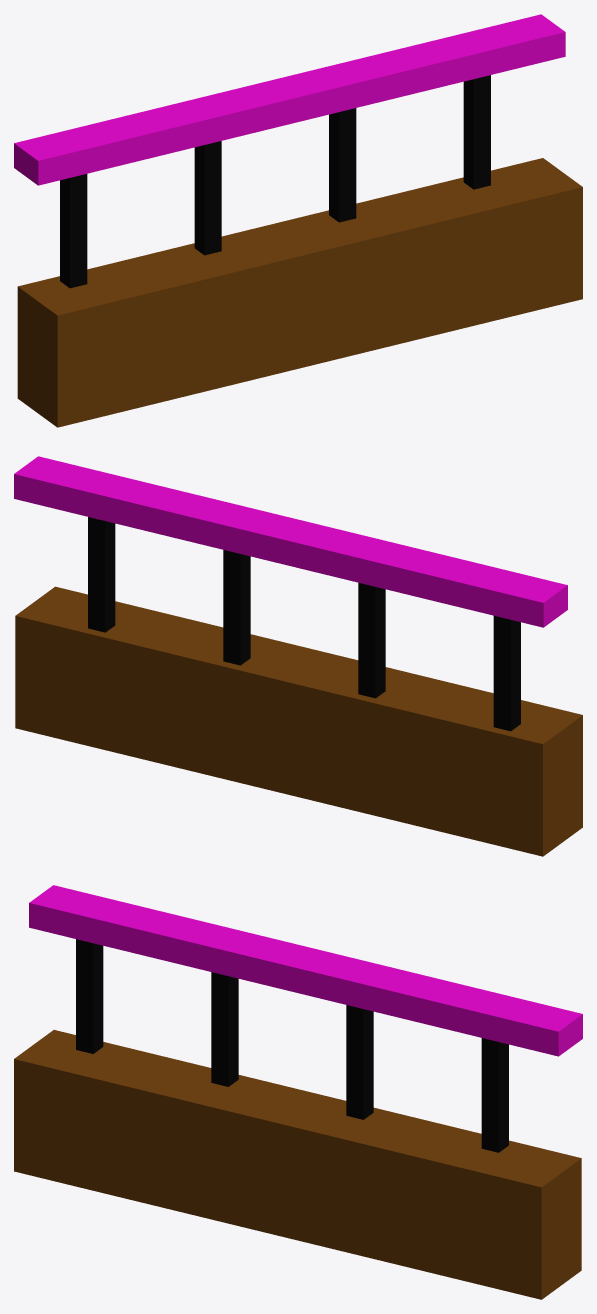
The model's file is GroundHandle.fbx.
3 renders of one model, top to bottom at view 1: azimuth 30°, elevation 25°; view 2: azimuth 150°, elevation 25°; view 3: azimuth 330°, elevation 25°, orthographic.
Visible parts, largest first — view 1: GroundHandle; view 2: GroundHandle; view 3: GroundHandle.
Part boxes in pixels (<box>): GroundHandle: <box>14,14,582,427</box>; GroundHandle: <box>14,456,582,856</box>; GroundHandle: <box>14,885,582,1299</box>.
Bounding box in the file's own units: 1526 × 704 × 209.
